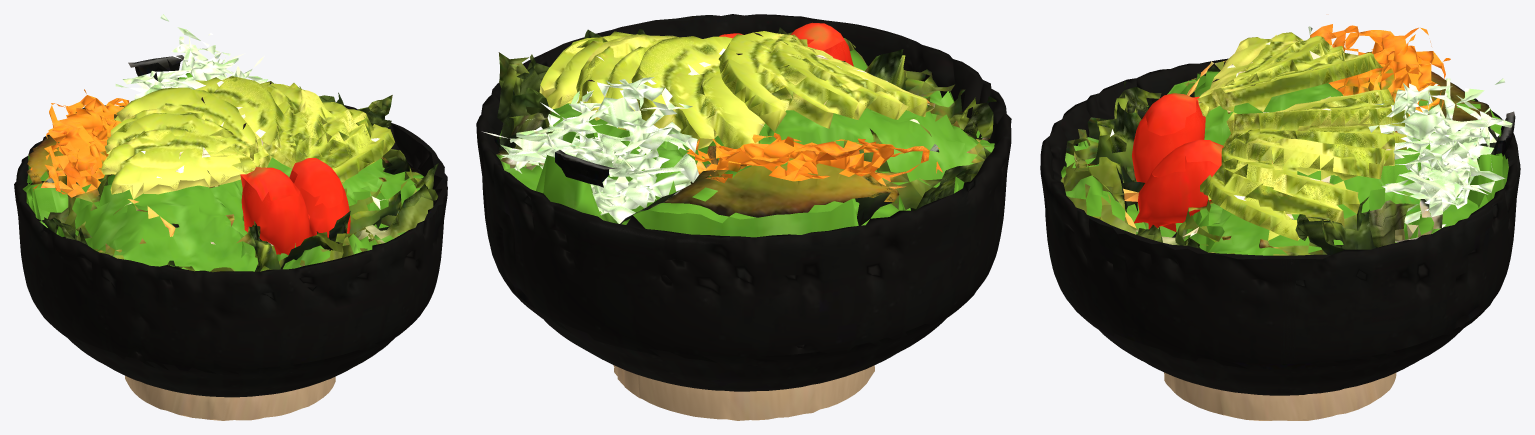
The model's file is avocado_salad_lite.glb.
3 renders of one model, left to right at view 1: azimuth 30°, elevation 25°; view 2: azimuth 150°, elevation 25°; view 3: azimuth 270°, elevation 25°, orthographic. The views are drawn at different scales.
Parts seen in each view (by area): view 1: ing_base, ing_romaine, ing_avocado, ing_cherryTomato, ing_carrot, ing_cucumber, ing_sesame; view 2: ing_base, ing_romaine, ing_avocado, ing_cucumber, ing_carrot, ing_cherryTomato; view 3: ing_base, ing_avocado, ing_romaine, ing_cucumber, ing_cherryTomato, ing_carrot.
Boxes of the visible parts, bbox=[...] form: ing_base: bbox=[14, 105, 447, 420]; ing_romaine: bbox=[23, 55, 438, 272]; ing_avocado: bbox=[101, 76, 394, 199]; ing_cherryTomato: bbox=[240, 158, 350, 254]; ing_carrot: bbox=[30, 89, 129, 197]; ing_cucumber: bbox=[115, 14, 267, 99]; ing_sesame: bbox=[125, 81, 420, 245]; ing_base: bbox=[476, 14, 1011, 420]; ing_romaine: bbox=[493, 27, 996, 237]; ing_avocado: bbox=[539, 31, 927, 149]; ing_cucumber: bbox=[482, 77, 698, 223]; ing_carrot: bbox=[687, 132, 942, 188]; ing_cherryTomato: bbox=[719, 22, 853, 66]; ing_base: bbox=[1040, 58, 1520, 420]; ing_avocado: bbox=[1197, 32, 1408, 240]; ing_romaine: bbox=[1060, 51, 1515, 255]; ing_cucumber: bbox=[1368, 78, 1512, 227]; ing_cherryTomato: bbox=[1132, 93, 1223, 232]; ing_carrot: bbox=[1308, 24, 1450, 132].
Bounding box in the file's own units: 0.1584 × 0.1145 × 0.1587.
1 material, 1 textured.
